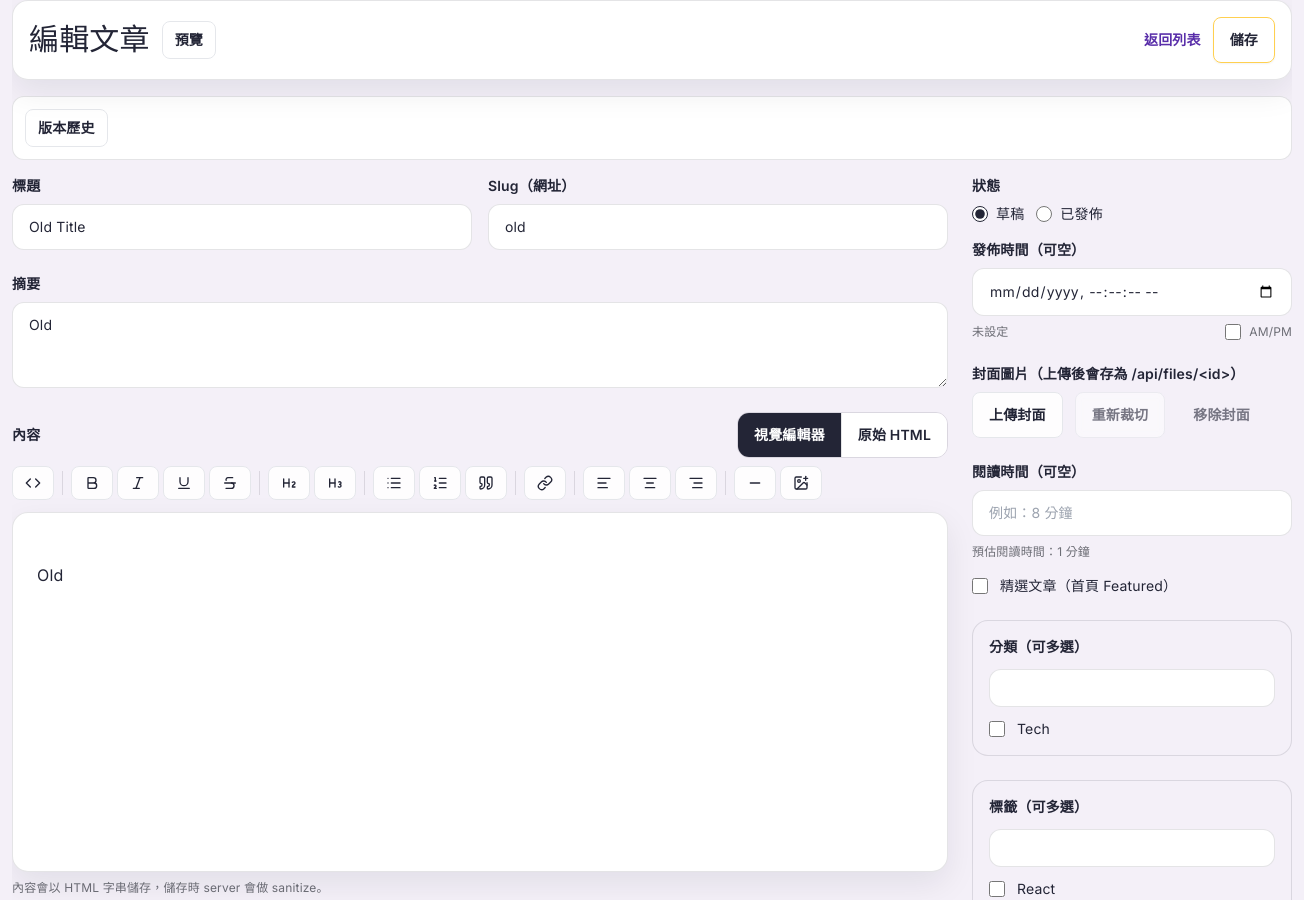
Test: AdminPostForm › dirty-form preview flow › keeps form content and shows the error without opening preview on 儲存並預覽 failure
Type " Edited" into the field labelled "標題".
click(242, 227); type(" Edited")  # box x1=12 y1=204 x2=472 y2=250
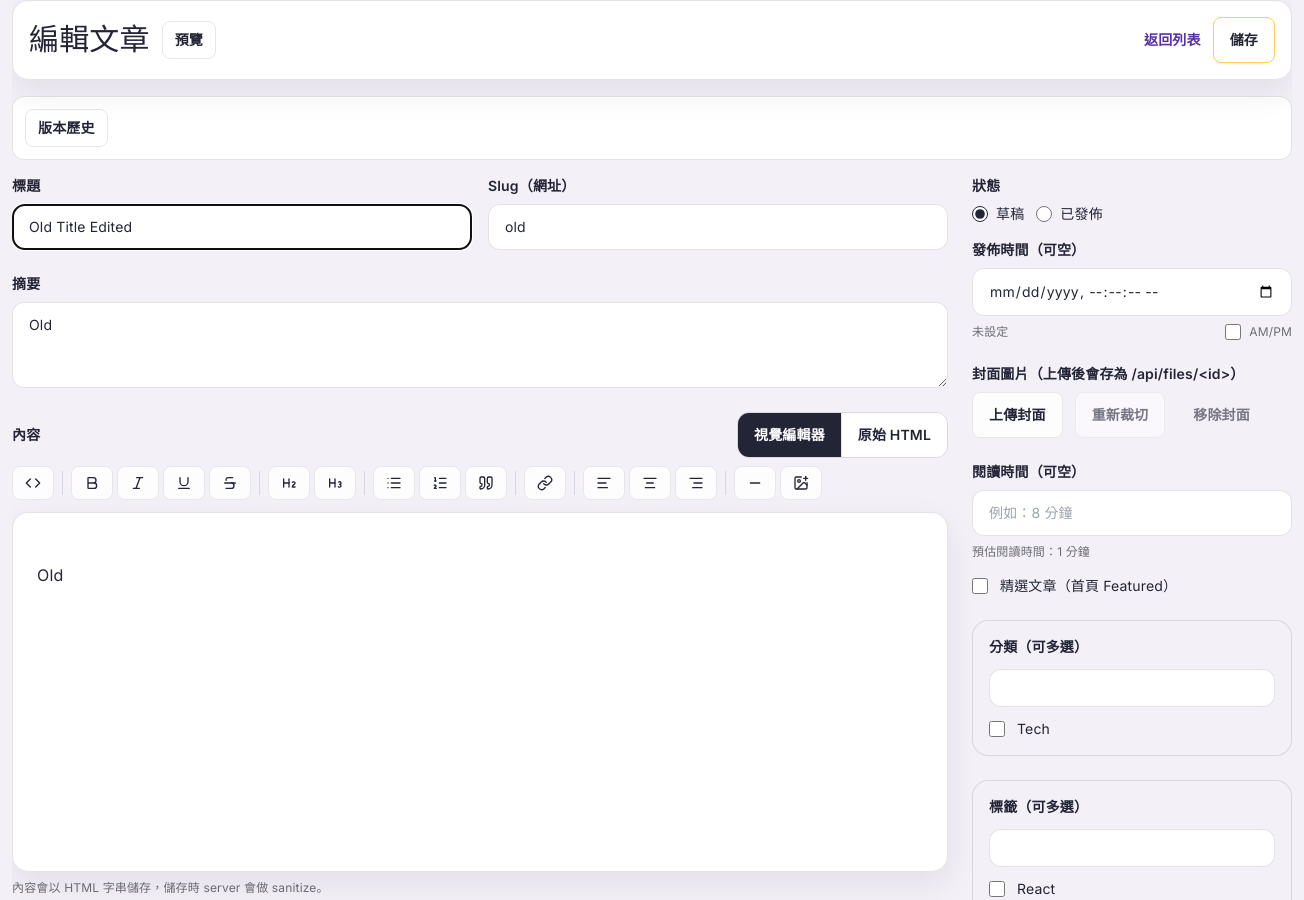
Click the button "預覽".
click(189, 40)  # box x1=162 y1=21 x2=216 y2=59
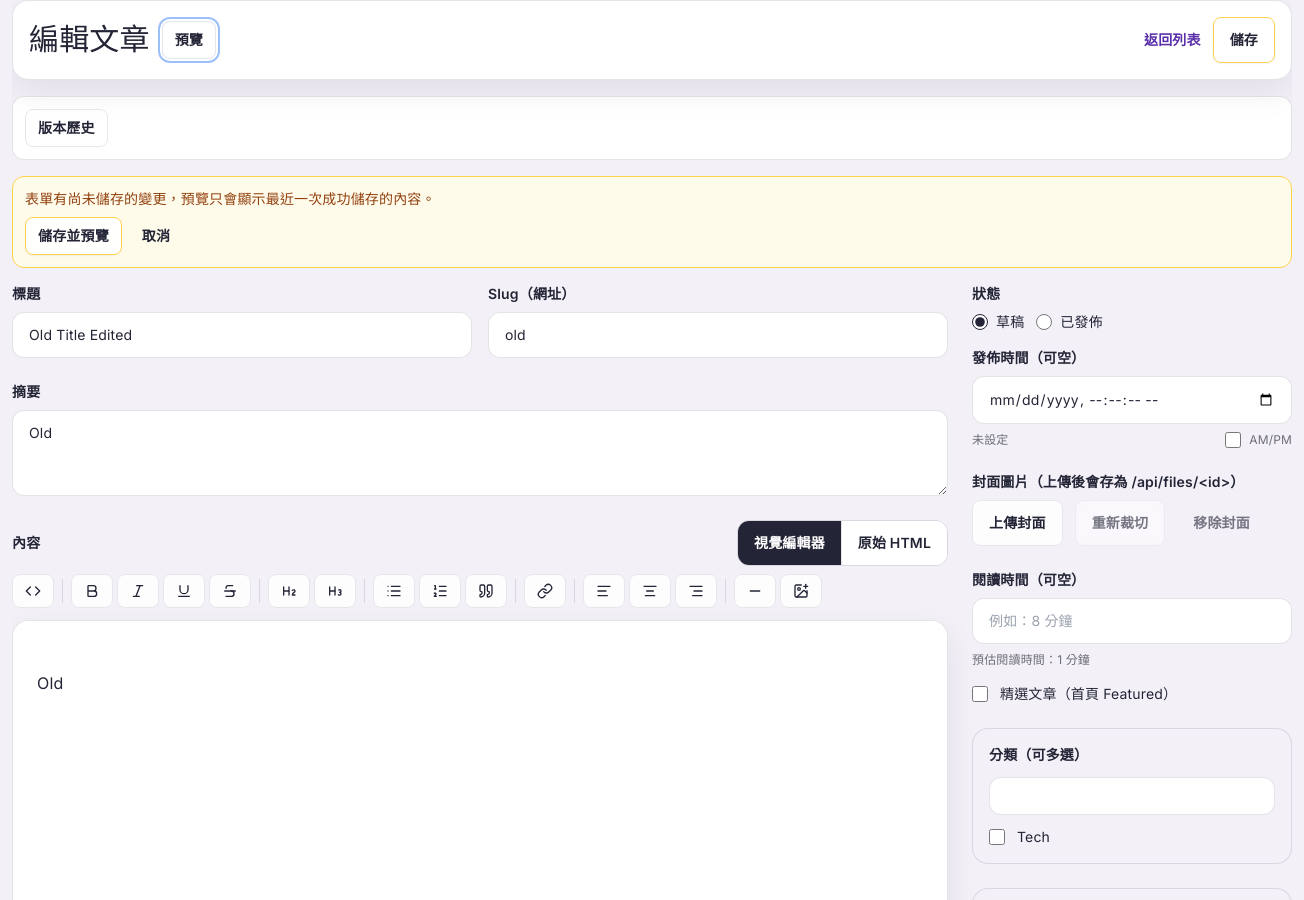
Click the button "儲存並預覽".
click(73, 236)  # box x1=25 y1=217 x2=122 y2=255
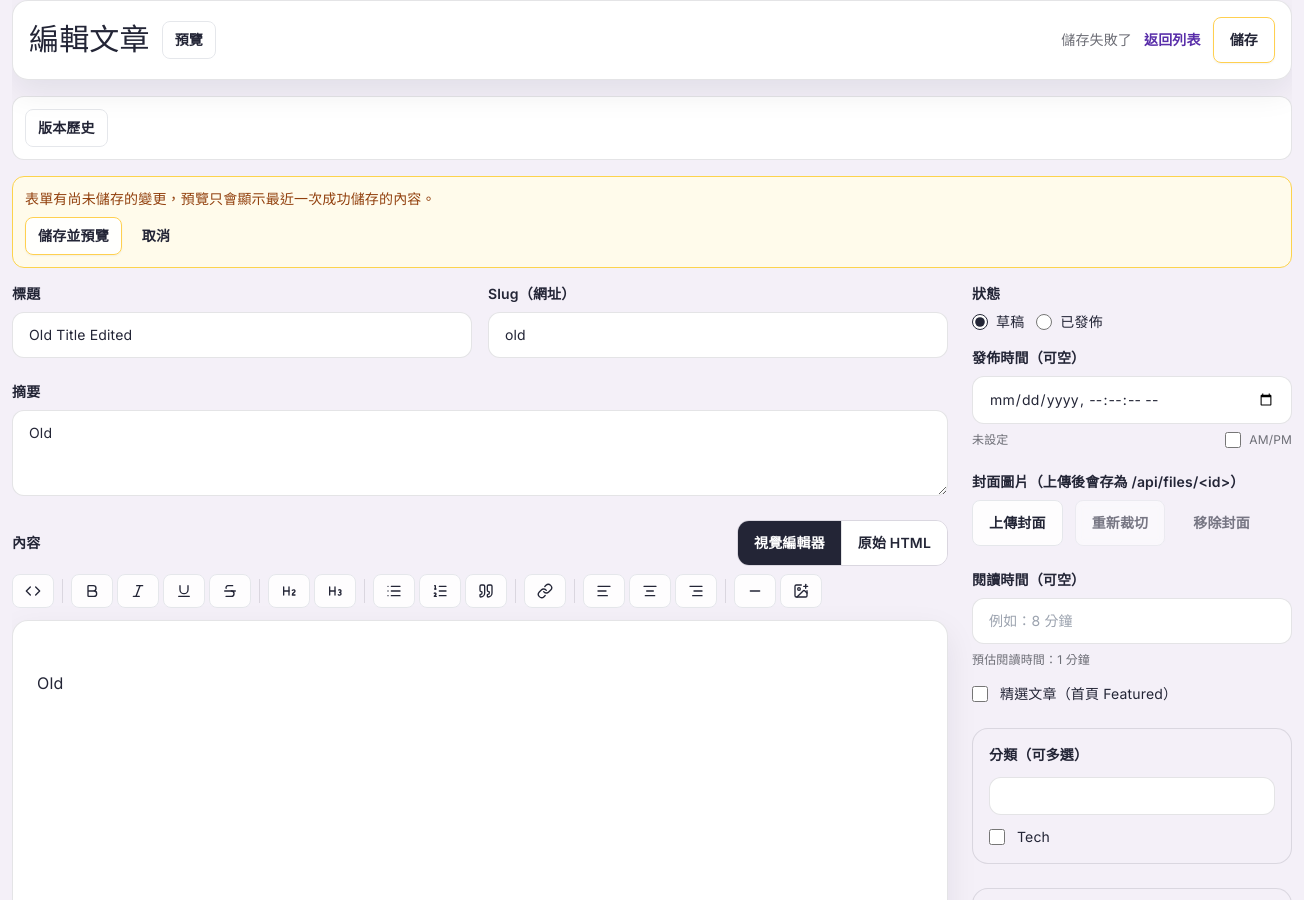
Check: the field labelled "標題" holds "Old Title Edited", box x1=12 y1=312 x2=472 y2=358
Check: the text "儲存失敗了" is shown, box x1=1061 y1=30 x2=1132 y2=50
